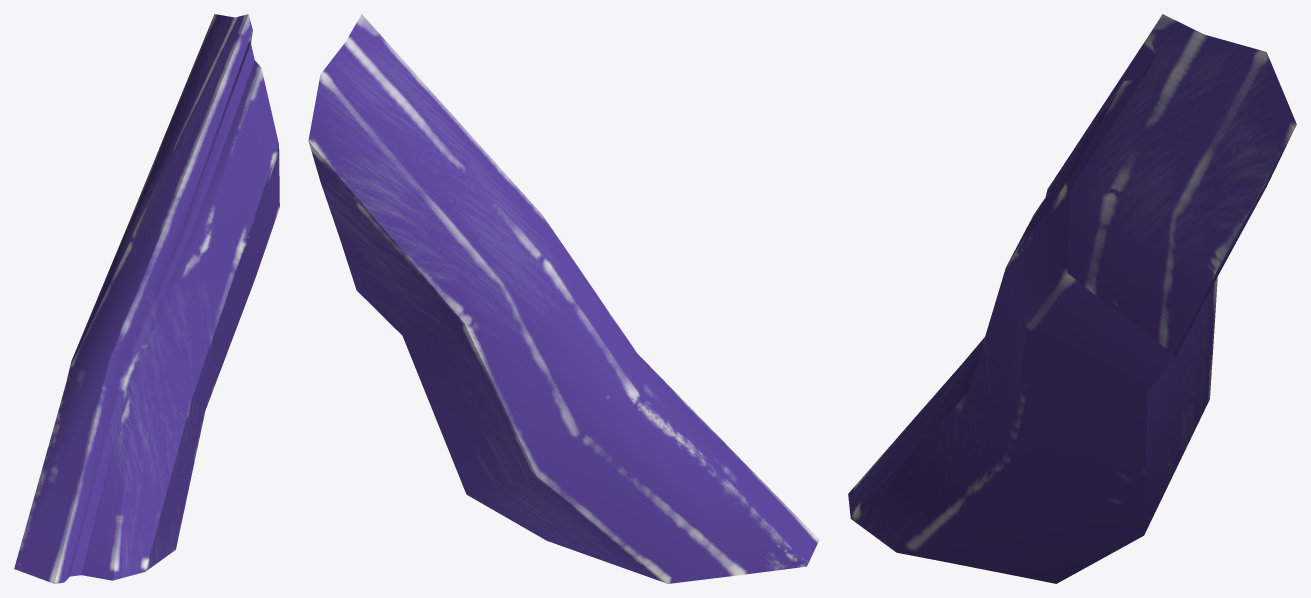
The model's file is Roca_Pilar_04.fbx.
3 renders of one model, left to right at view 1: azimuth 30°, elevation 25°; view 2: azimuth 150°, elevation 25°; view 3: azimuth 270°, elevation 25°, orthographic. The views are drawn at different scales.
Visible parts, largest first — view 1: polySurface6; view 2: polySurface6; view 3: polySurface6.
Boxes of the visible parts, box(x1,y1,x2,y2) form: polySurface6: box(14, 14, 279, 583); polySurface6: box(308, 14, 819, 583); polySurface6: box(848, 14, 1296, 583).
Bounding box in the file's own units: 2.41 × 3.3 × 2.04.
